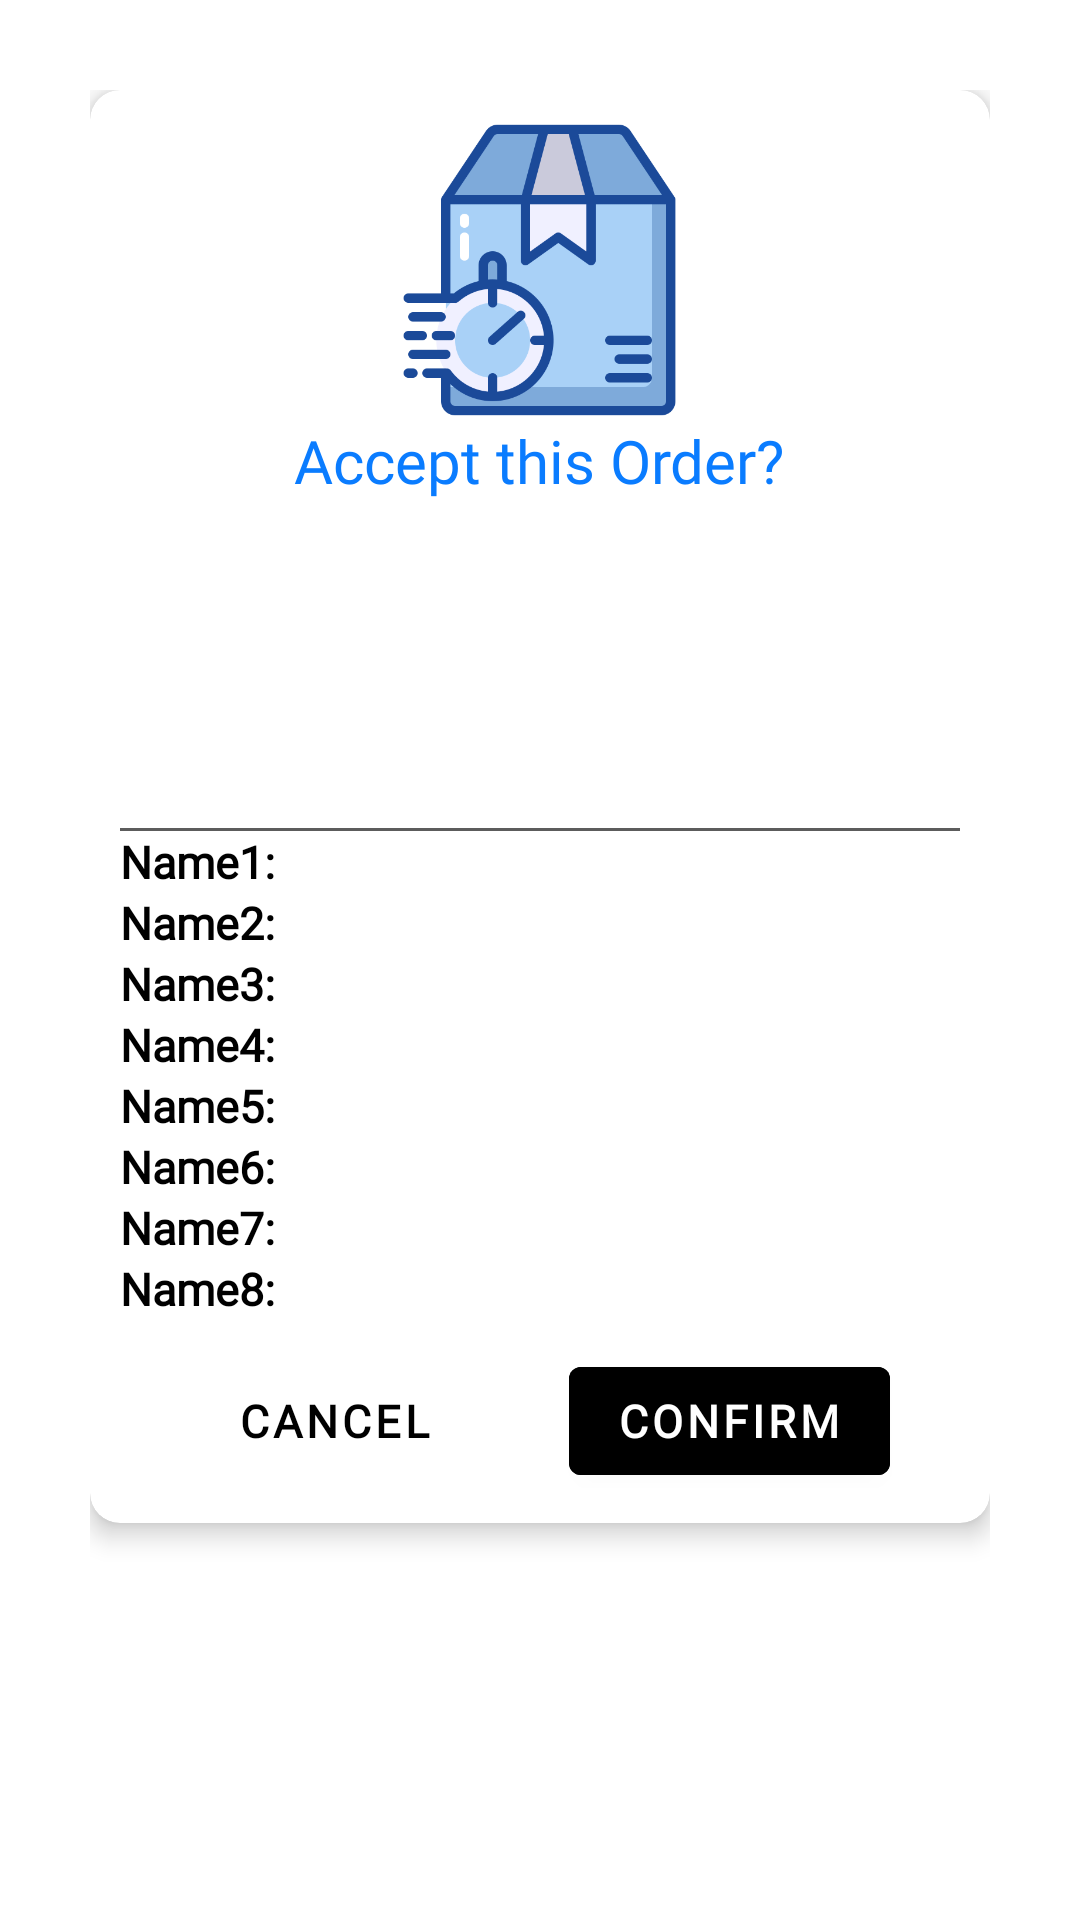

Where to tap for icons on this 1080×1920 app screen, as [x,y]:
prepare: [539,270]
